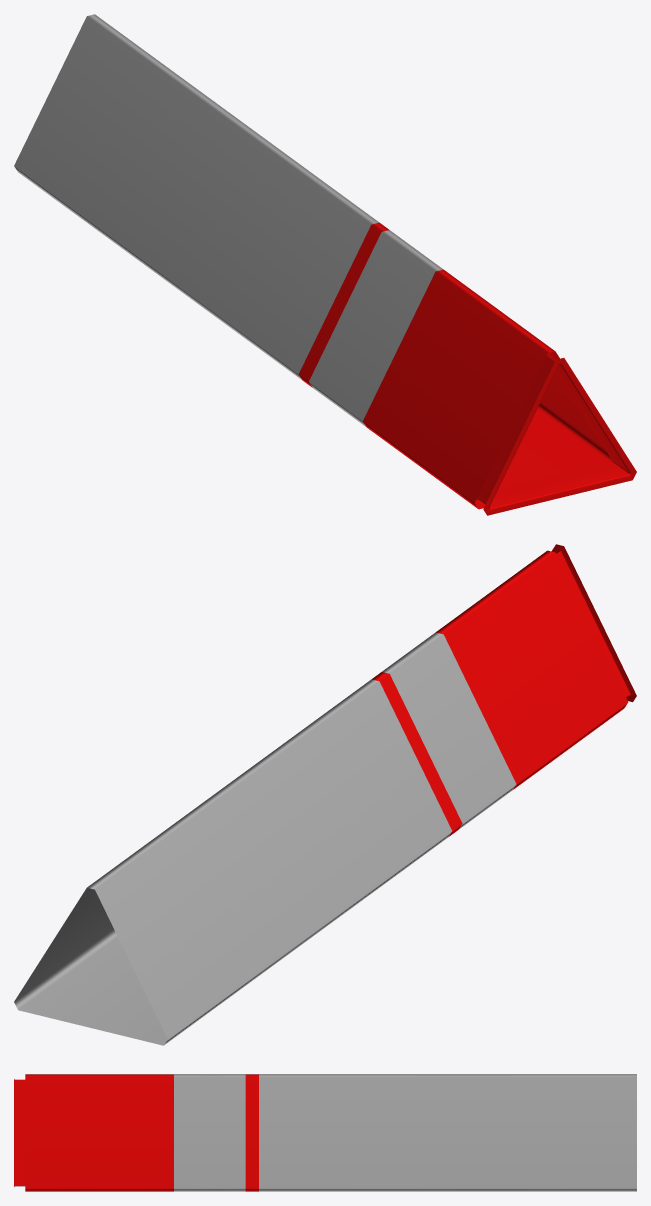
3 renders of one model, top to bottom at view 1: azimuth 30°, elevation 25°; view 2: azimuth 150°, elevation 25°; view 3: azimuth 270°, elevation 25°, orthographic. The views are drawn at different scales.
Parts seen in each view (by area): view 1: tube_02, transition_02; view 2: tube_02, transition_02; view 3: tube_02, transition_02.
Part boxes in pixels (x1,y1,x2,y2): tube_02: [14, 14, 612, 509]; transition_02: [476, 352, 636, 515]; tube_02: [14, 550, 628, 1045]; transition_02: [551, 544, 636, 702]; tube_02: [25, 1074, 636, 1191]; transition_02: [14, 1079, 25, 1186].
Size of the model in its own units: 1927 by 1669 by 10187.
